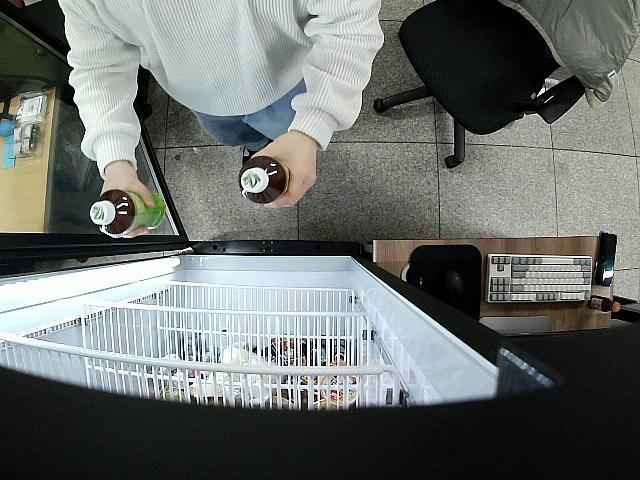19_17cha: (90, 189, 166, 236), (240, 156, 290, 204)
